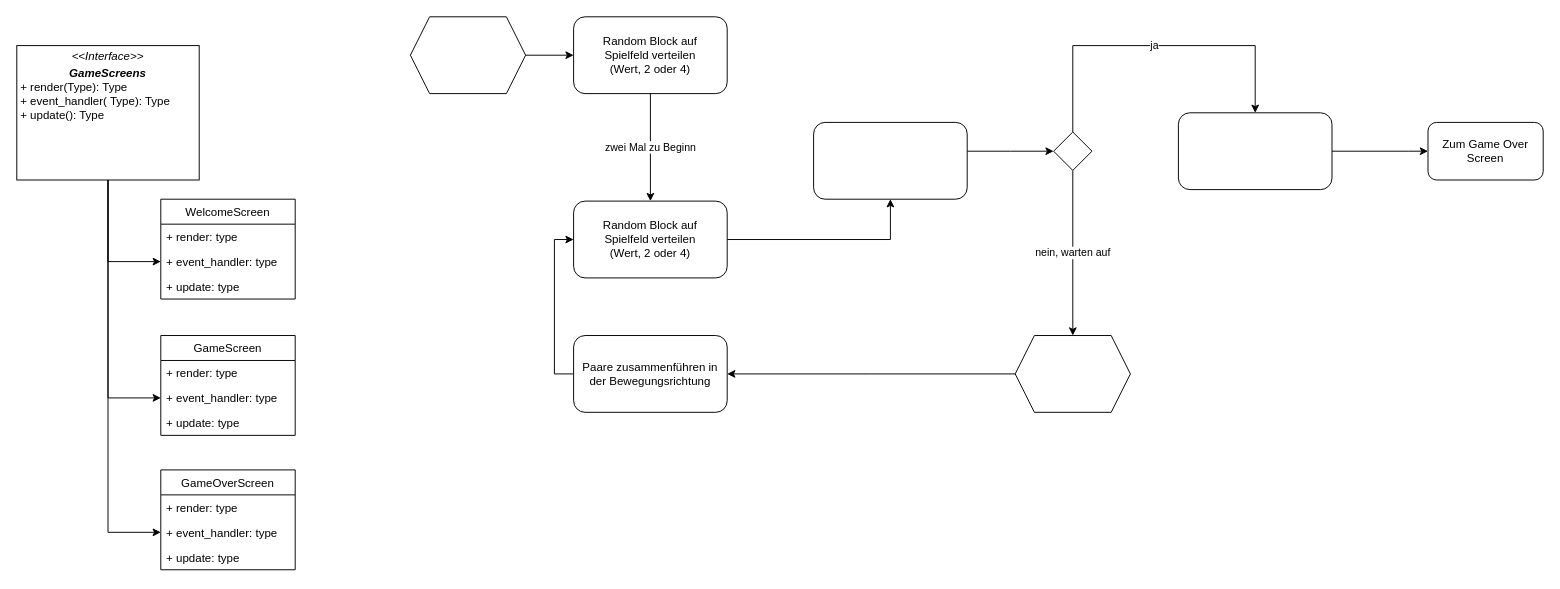
This 1560x589 diagram has some shape labels left out. The box of each missing label's shape, as (x1, y1, x2, y2) in pixels:
Bewegungs- ereignis (links, rechts, oben, unten): (1014, 335, 1130, 412)
Neues Spiel: (409, 16, 526, 94)
Score speichern: (1177, 112, 1332, 190)
Spielfeld prüfen: Ist das Spielfeld voll?: (813, 121, 967, 199)
